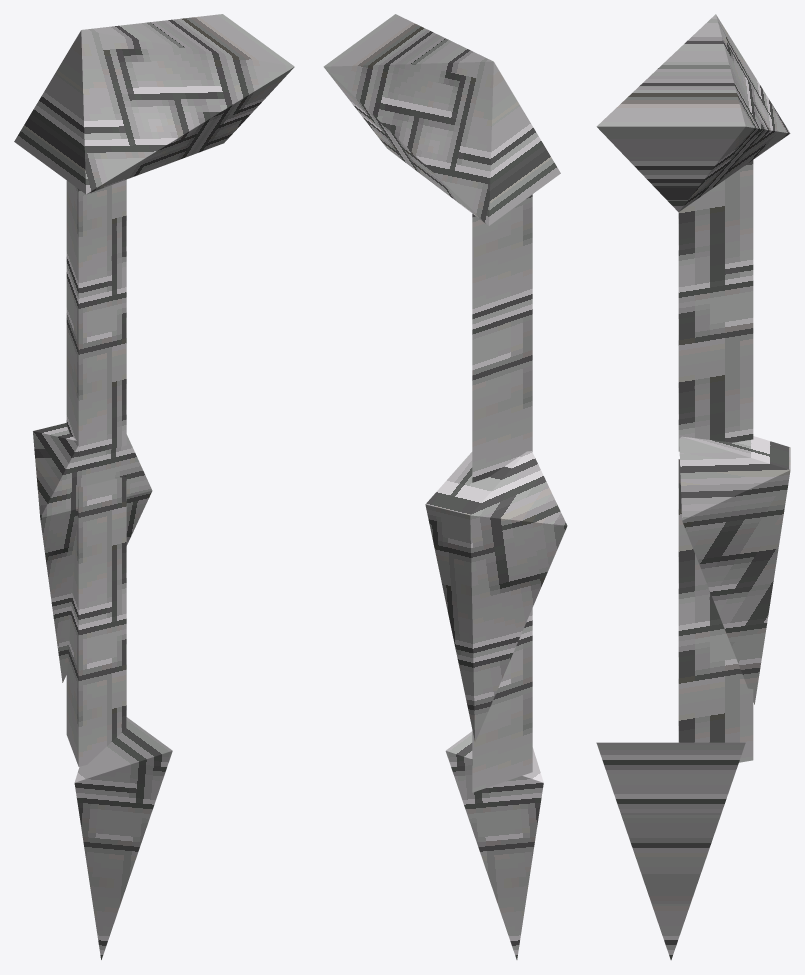
The model's file is LeftFrameArmSkel.glb.
3 views of the same model, side by side, from view 1: azimuth 30°, elevation 25°; view 2: azimuth 150°, elevation 25°; view 3: azimuth 270°, elevation 25° (orthographic). The views are drawn at different scales.
Parts seen in each view (by area): view 1: LeftFrameArmSkel_part00, LeftFrameArmSkel_part01, LeftFrameArmSkel_part02; view 2: LeftFrameArmSkel_part00, LeftFrameArmSkel_part01, LeftFrameArmSkel_part02; view 3: LeftFrameArmSkel_part00, LeftFrameArmSkel_part01, LeftFrameArmSkel_part02.
Part boxes in pixels (x1,y1,x2,y2): LeftFrameArmSkel_part00: (14, 14, 294, 456); LeftFrameArmSkel_part01: (33, 423, 152, 766); LeftFrameArmSkel_part02: (74, 717, 172, 959); LeftFrameArmSkel_part00: (323, 14, 560, 482); LeftFrameArmSkel_part01: (425, 451, 567, 792); LeftFrameArmSkel_part02: (445, 731, 543, 959); LeftFrameArmSkel_part00: (596, 14, 790, 451); LeftFrameArmSkel_part01: (678, 436, 790, 762); LeftFrameArmSkel_part02: (596, 742, 745, 960).
Size of the model in its own units: 3.42 by 14.01 by 2.6.
1 material, 1 textured.
